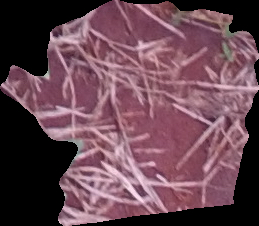soil: (1, 1, 259, 225)
